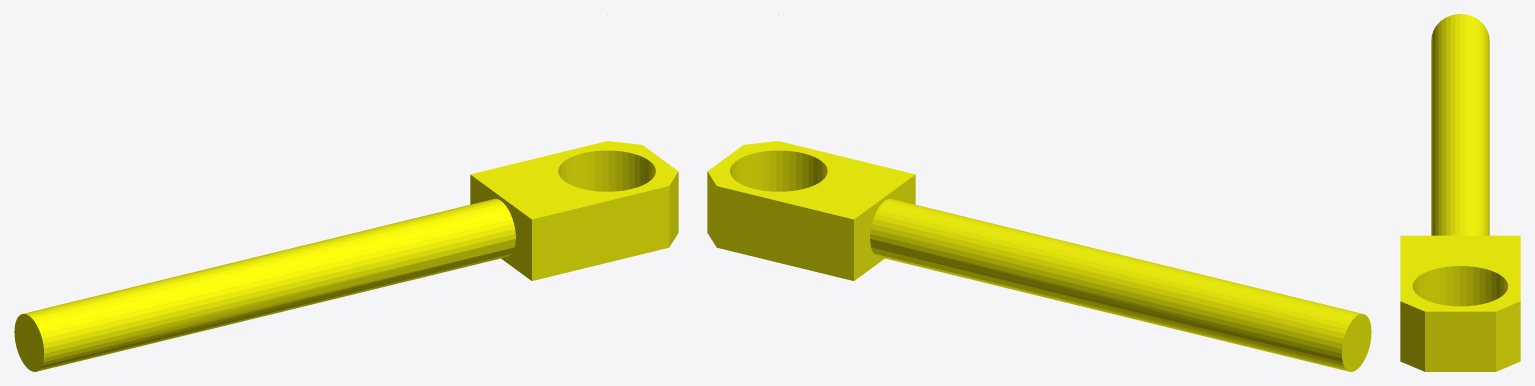
3 views of the same model, side by side, from view 1: azimuth 30°, elevation 25°; view 2: azimuth 150°, elevation 25°; view 3: azimuth 270°, elevation 25° (orthographic). The views are drawn at different scales.
Visible parts, largest first — view 1: node; view 2: node; view 3: node.
Part boxes in pixels (x1,y1,x2,y2): node: (14,14,678,371); node: (707,14,1371,371); node: (1400,14,1520,371).
Size of the model in its own units: 858 by 284 by 145.
